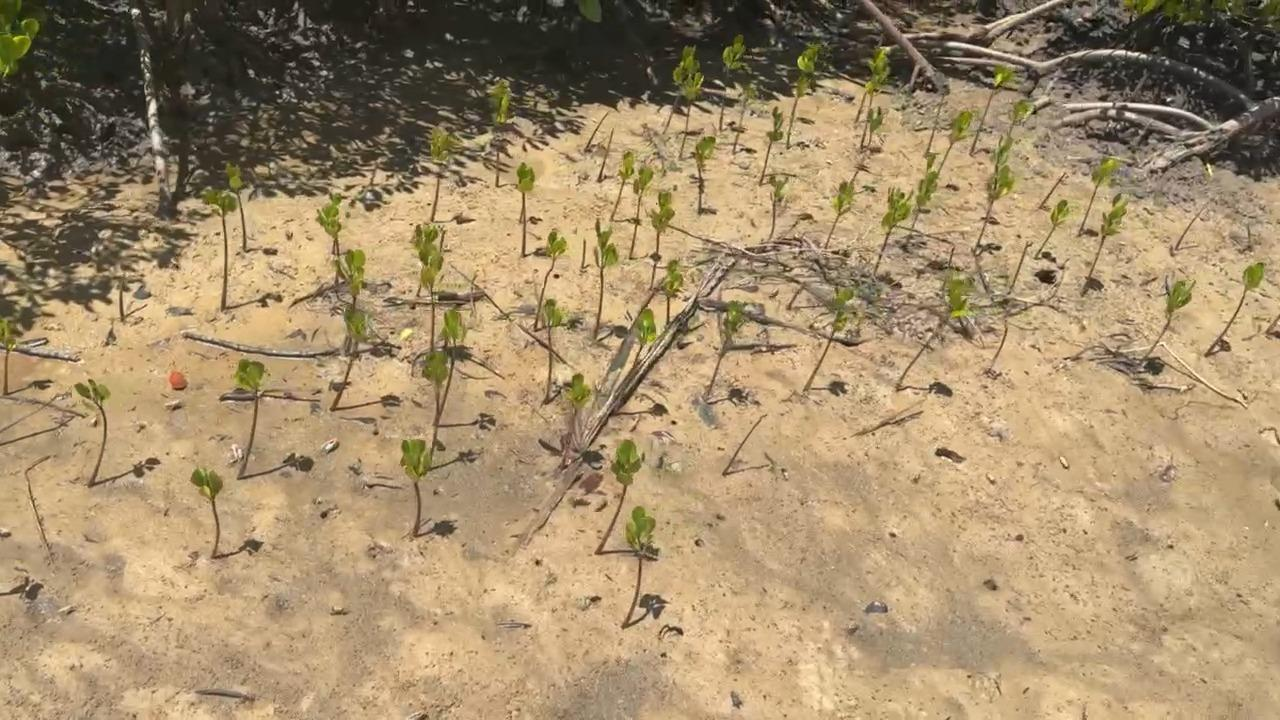Tree: (424, 309, 466, 447), (595, 438, 642, 555), (803, 289, 856, 392), (1206, 263, 1265, 355), (1078, 193, 1128, 287), (621, 506, 659, 628), (409, 220, 444, 351), (201, 186, 236, 310), (330, 308, 371, 412), (971, 66, 1018, 154), (74, 378, 111, 488), (233, 358, 266, 478), (978, 138, 1015, 244), (1145, 277, 1195, 355), (533, 228, 568, 332), (708, 299, 743, 394), (664, 43, 700, 134), (1077, 157, 1119, 234), (787, 45, 819, 146), (898, 319, 944, 388), (558, 373, 591, 469), (873, 186, 909, 273), (593, 219, 618, 339), (402, 439, 432, 537), (191, 466, 222, 558), (427, 124, 456, 222), (861, 49, 889, 149), (648, 190, 675, 289), (720, 36, 748, 128), (723, 414, 766, 473), (855, 47, 888, 123), (540, 298, 563, 403), (487, 78, 509, 187), (909, 151, 940, 228), (938, 109, 973, 176), (628, 165, 653, 258), (328, 250, 366, 311), (757, 105, 785, 183), (224, 163, 249, 250), (1035, 199, 1069, 260), (691, 136, 717, 212), (824, 181, 853, 249), (0, 319, 24, 395), (516, 161, 535, 257), (315, 192, 343, 256), (608, 152, 634, 219), (944, 279, 971, 337), (734, 80, 756, 151), (680, 71, 703, 136), (633, 307, 656, 367), (769, 175, 789, 238), (1175, 207, 1205, 249), (664, 260, 681, 324), (1007, 99, 1034, 139), (1012, 240, 1034, 283), (597, 128, 614, 181), (585, 112, 608, 148), (868, 106, 884, 149), (941, 246, 957, 288), (118, 274, 125, 319), (582, 237, 586, 270)
